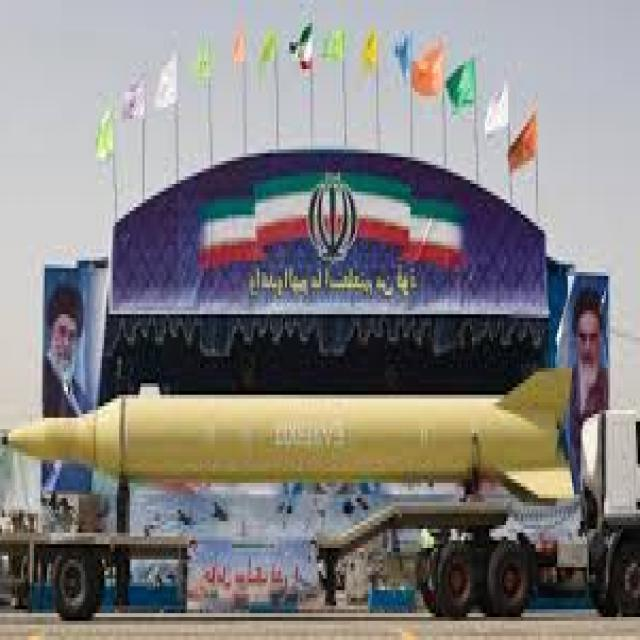Missile: (0, 362, 591, 501)
